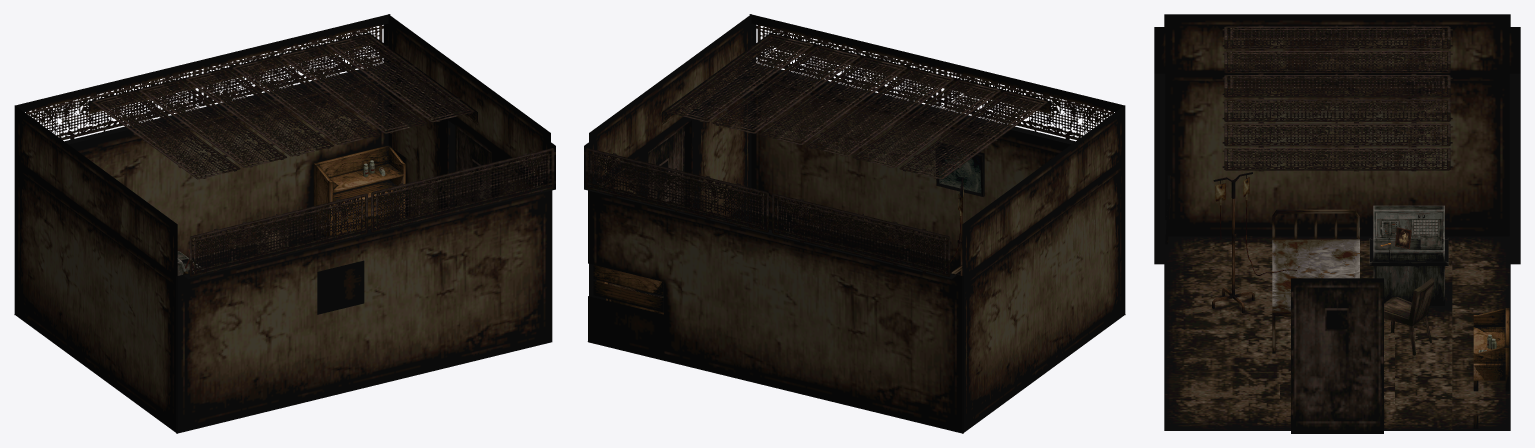
The model's file is SH1 Alessa's Hospital Room.fbx.
The picture shows the model from 3 angles, left to right: view 1: azimuth 30°, elevation 25°; view 2: azimuth 150°, elevation 25°; view 3: azimuth 270°, elevation 25°; orthographic projection. The views are drawn at different scales.
Parts seen in each view (by area): view 1: Walls, Roof, Cabinet, Floor; view 2: Walls, Roof, Cabinet, Wall Painting, Floor; view 3: Walls, Floor, Roof, Table, Bed, Cabinet, Chair, IV Stand.
Boxes of the visible parts, left/top/right/bottom form: Walls: left=14, top=14, right=555, bottom=433; Roof: left=89, top=33, right=477, bottom=179; Cabinet: left=313, top=145, right=405, bottom=240; Floor: left=14, top=240, right=551, bottom=433; Walls: left=584, top=14, right=1125, bottom=433; Roof: left=662, top=33, right=1050, bottom=179; Cabinet: left=593, top=265, right=663, bottom=314; Wall Painting: left=935, top=143, right=984, bottom=196; Floor: left=587, top=224, right=1125, bottom=433; Walls: left=1154, top=14, right=1520, bottom=433; Floor: left=1164, top=236, right=1510, bottom=430; Roof: left=1222, top=25, right=1452, bottom=171; Table: left=1369, top=205, right=1448, bottom=305; Bed: left=1272, top=209, right=1359, bottom=353; Cabinet: left=1473, top=308, right=1509, bottom=428; Chair: left=1384, top=277, right=1434, bottom=355; IV Stand: left=1212, top=172, right=1296, bottom=313.
Size of the model in its own units: 16697 by 9275 by 13056.
16 materials, 16 textured.
